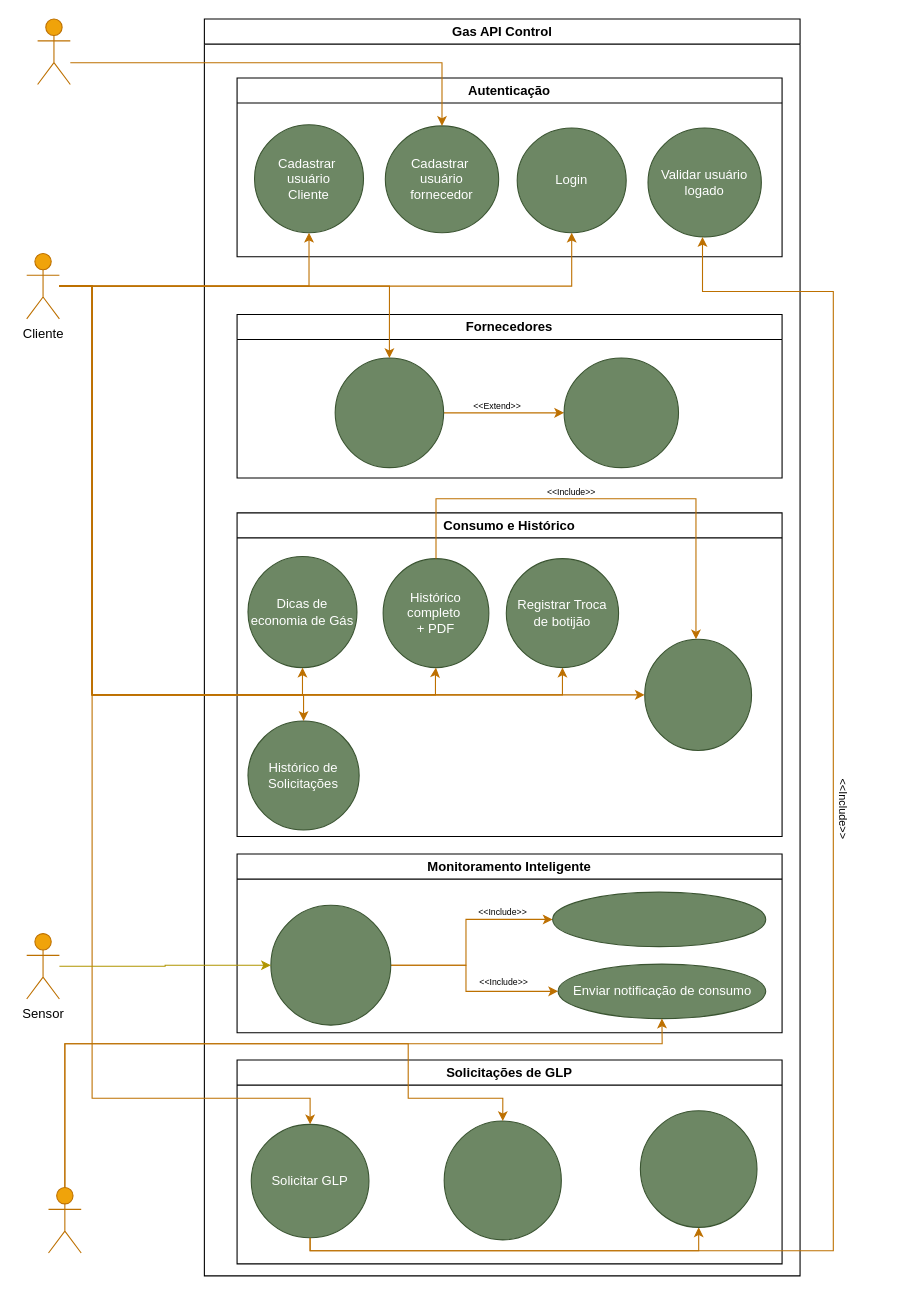
Image size: 918x1311. Some labels were removed from this diagram. The centre of each missing label's shape, as x and y in pixels:
"Detectar vazamento ou uso excessivo" belongs at point (330, 964).
"Escolher entrega ou retirada" belongs at point (698, 1168).
"Filtrar fornecedores" belongs at point (621, 412).
"Fornecedor" belongs at point (53, 51).
"Gerar Alerta de vazamento/ uso excessivo" belongs at point (659, 919).
"Histórico de consumo simplificado" belongs at point (698, 694).
"Listar fornecedores" belongs at point (389, 412).
"Notificar Chegada do entregador" belongs at point (502, 1180).
"WhatsAppApi" belongs at point (64, 1219).
